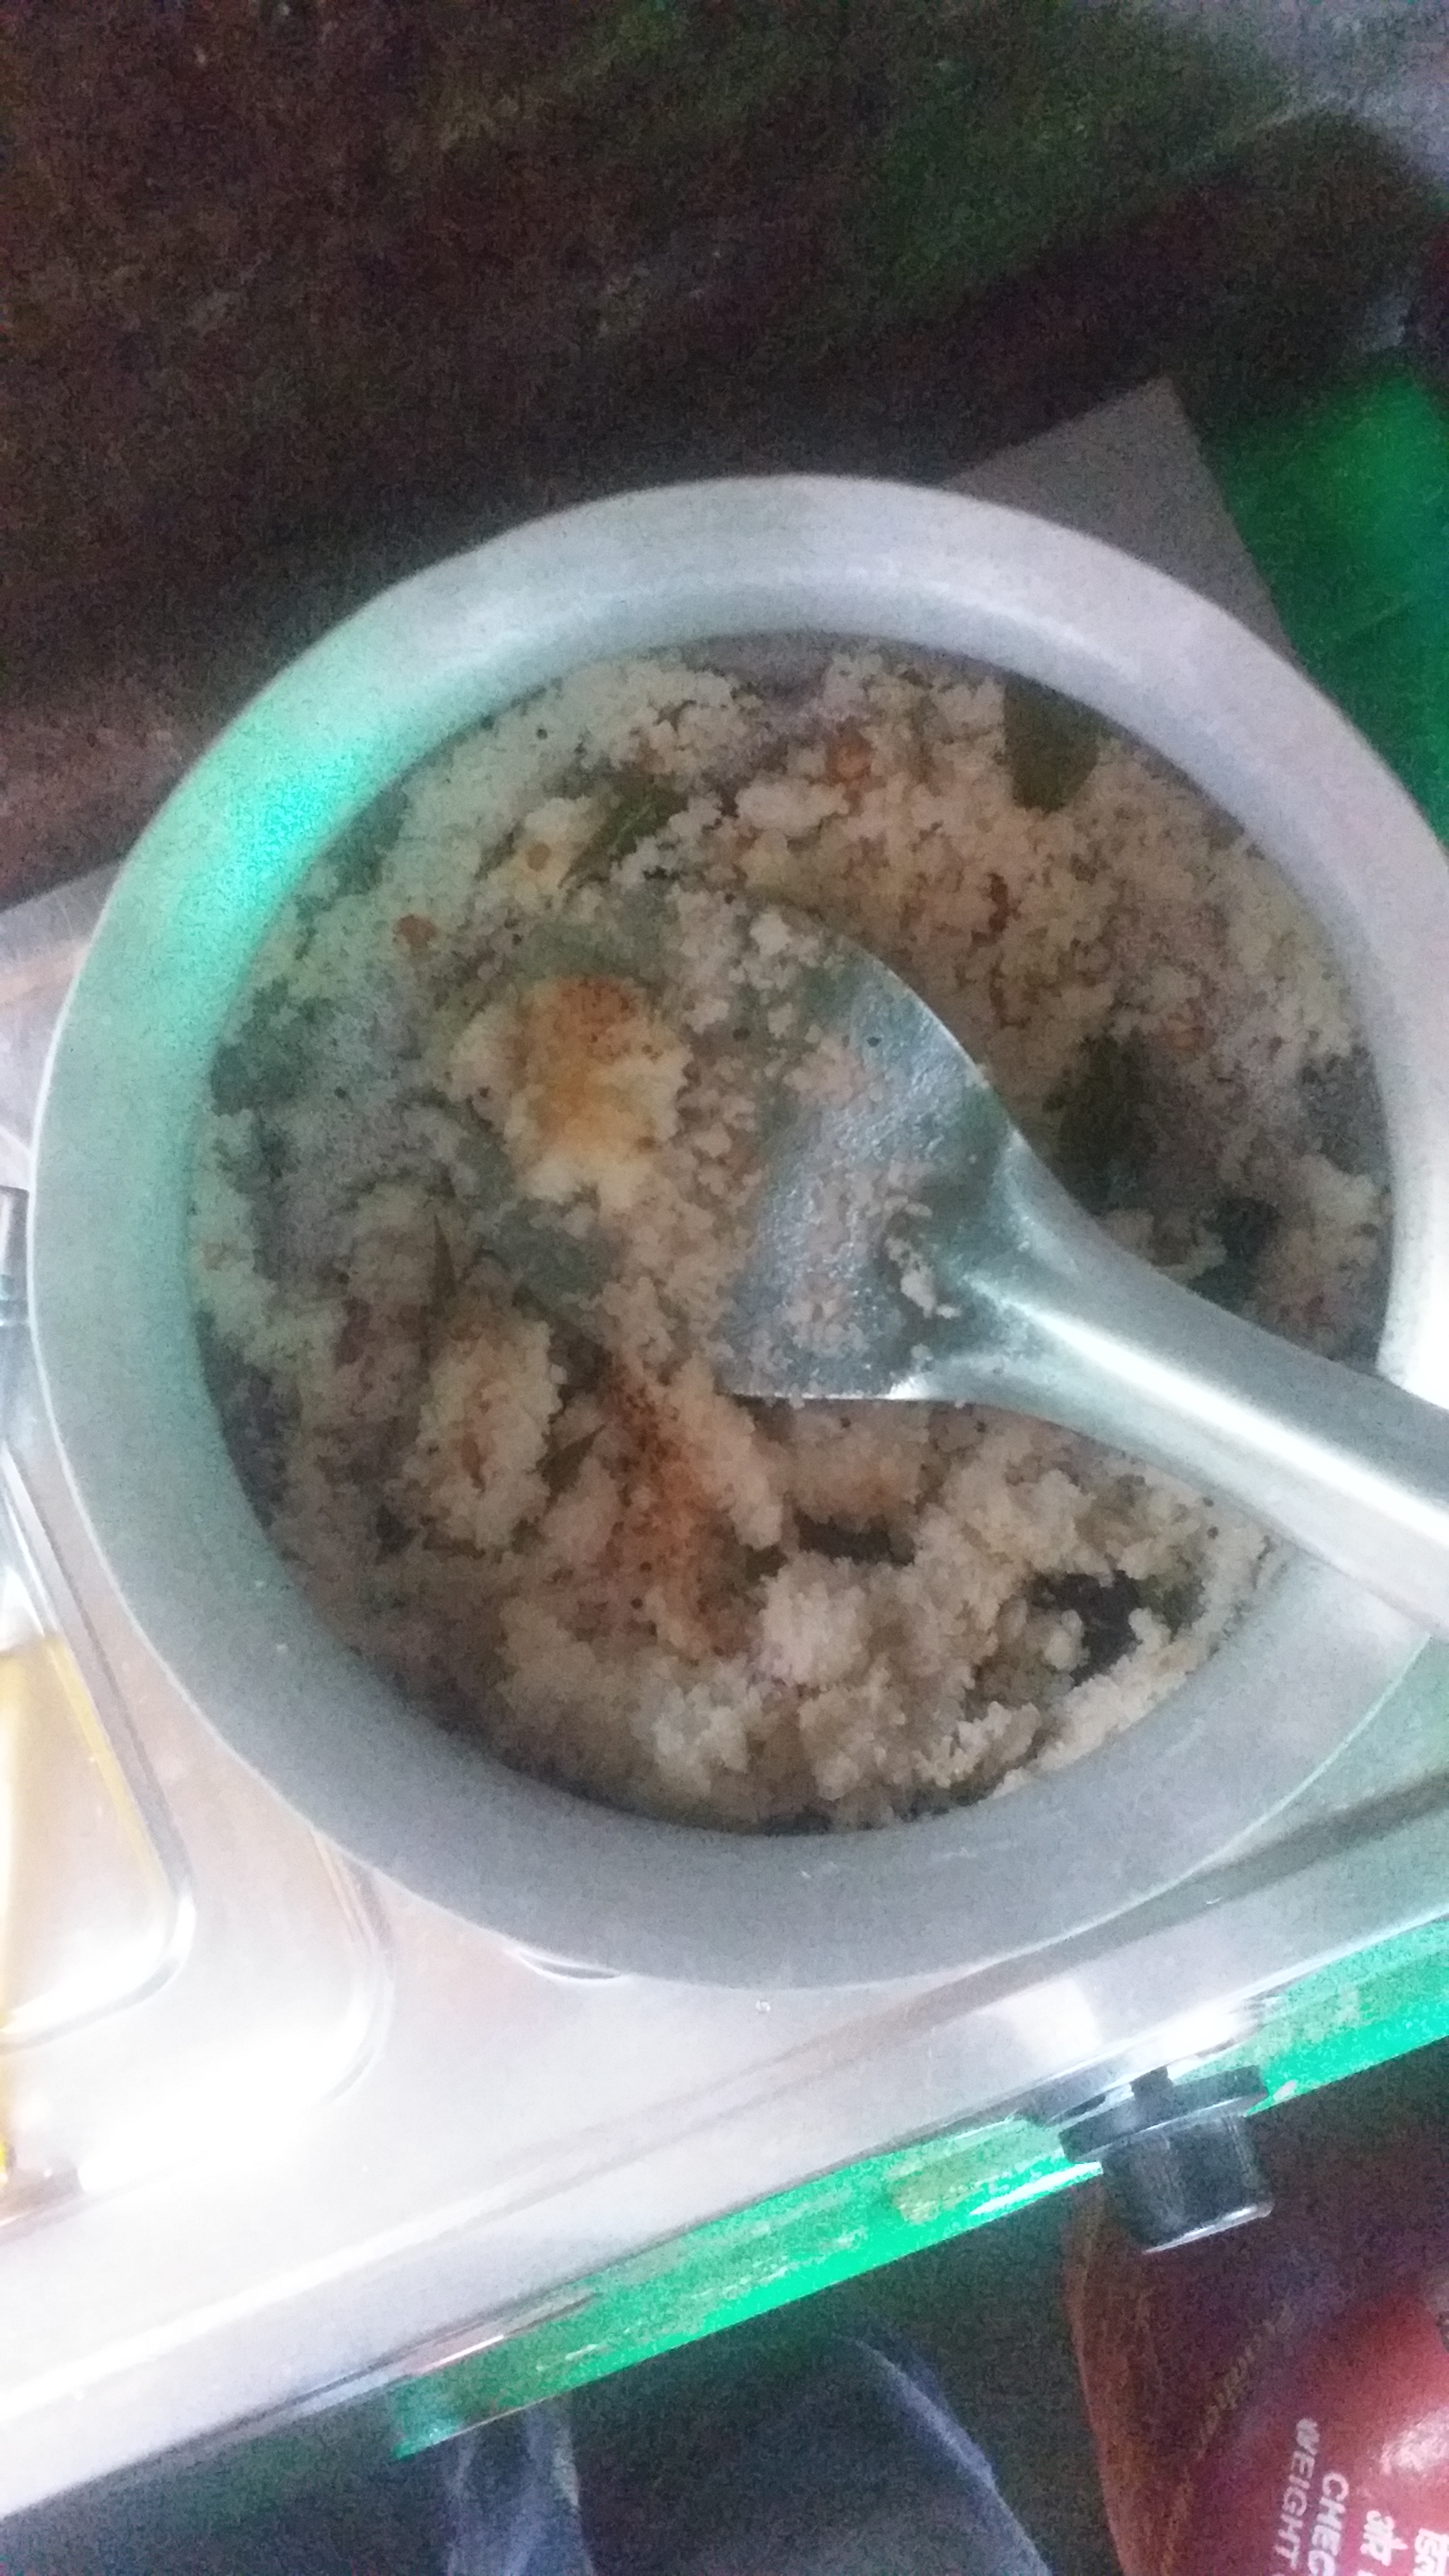food: (180, 623, 1401, 1845)
